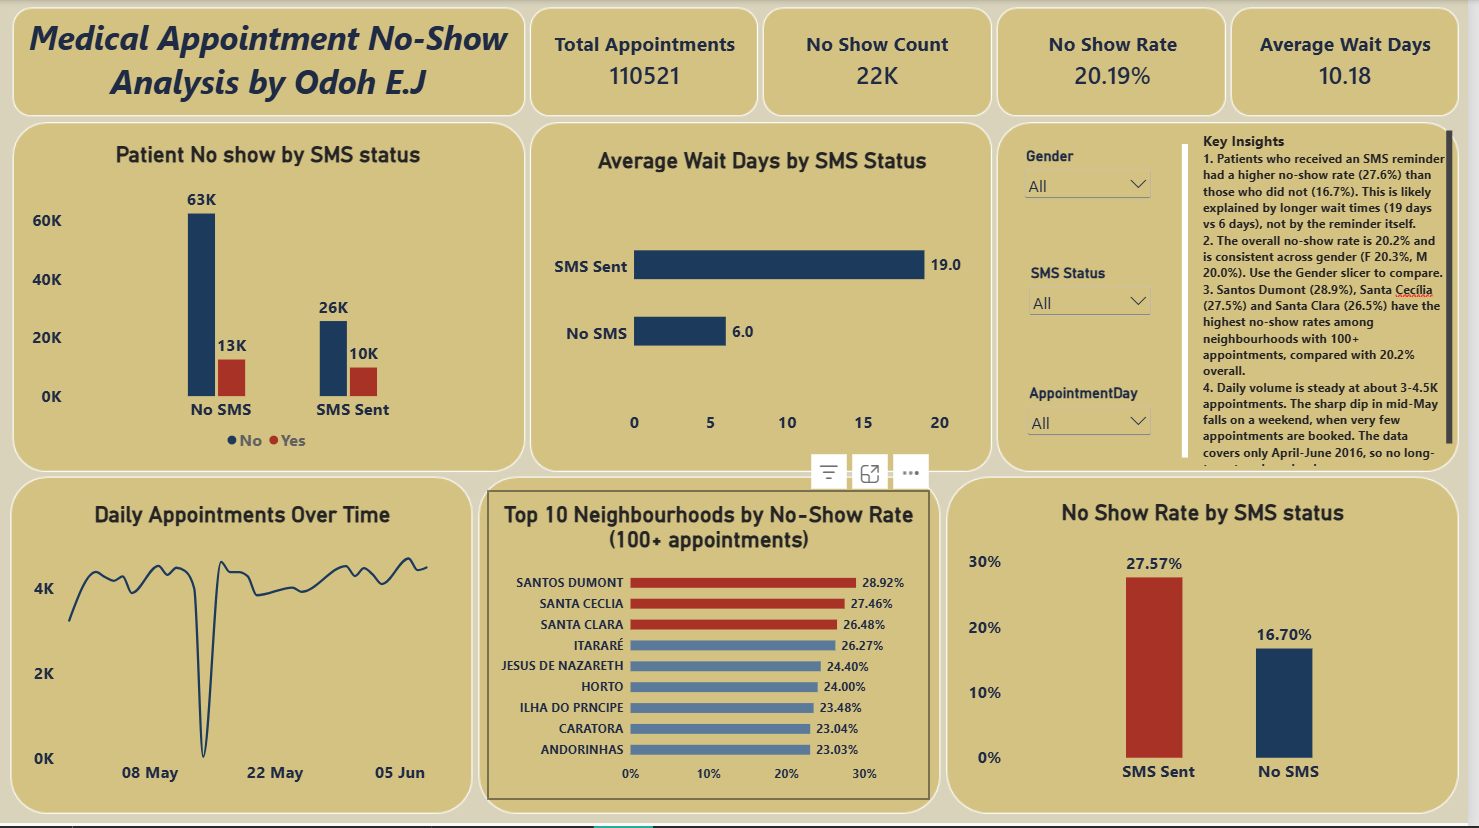

Layout of this report page (visuals, bound fields, positions):
{"tool":"powerbi","page":{"name":"Page 1","canvas":[1920,1080],"ordinal":0},"visuals":[{"type":"cardVisual","fields":{"Data":["appointments.Total Appointments"]},"box":[16,256,230,110],"z":0},{"type":"cardVisual","fields":{"Data":["appointments.No Show Count"]},"box":[592,256,230,110],"z":1000},{"type":"cardVisual","fields":{"Data":["appointments.No Show Rate"]},"box":[1121.7,254.5,230,110],"z":2000},{"type":"cardVisual","fields":{"Data":["appointments.Average Wait Days"]},"box":[1665.3,256.7,230,110],"z":3000},{"type":"textbox","box":[406.2,0,1107.5,95],"z":4000},{"type":"clusteredColumnChart","title":"No-Show Count by SMS Reminder Status","fields":{"Y":["CountNonNull(appointments.PatientId)"],"Series":["appointments.No_show"],"Category":["appointments.SMS_Status"]},"box":[16,384,600,336],"z":5000},{"type":"donutChart","title":"Appointment Status","fields":{"Y":["CountNonNull(appointments.PatientId)"],"Category":["appointments.No_show"]},"box":[656,384,600,336],"z":6000},{"type":"lineChart","title":"Appointments Over Time","fields":{"Y":["CountNonNull(appointments.PatientId)"],"Category":["appointments.AppointmentDay"]},"box":[1296,384,600,336],"z":7000},{"type":"clusteredBarChart","title":"Top 10 Neighbourhoods by No-Show Rate Time","fields":{"Category":["appointments.Neighbourhood"],"Y":["appointments.No Show Rate"]},"box":[16,736,600,336],"z":8000},{"type":"clusteredColumnChart","title":"No-Show Rate by SMS Reminder Status","fields":{"Category":["appointments.SMS_Status"],"Y":["appointments.No Show Rate"]},"box":[656,736,600,336],"z":9000},{"type":"slicer","fields":{"Values":["appointments.Gender"]},"box":[16,138.7,230,80],"z":10000},{"type":"slicer","fields":{"Values":["appointments.SMS_Status"]},"box":[592,138.7,230,80],"z":11000},{"type":"slicer","fields":{"Values":["appointments.AppointmentDay"]},"box":[1168,138.7,230,80],"z":12000},{"type":"textbox","box":[1295.5,736.4,600,336.4],"z":13000}]}

Visuals, with their boxes in screenshot pixels (x1, y1, x2, y2), scaled from the page's 1920x1080 canvas onto the 1479x828 screenshot:
cardVisual - appointments.Total Appointments: (12,196,189,281)
cardVisual - appointments.No Show Count: (456,196,633,281)
cardVisual - appointments.No Show Rate: (864,195,1041,279)
cardVisual - appointments.Average Wait Days: (1283,197,1460,281)
textbox: (313,0,1166,73)
"No-Show Count by SMS Reminder Status" clusteredColumnChart: (12,294,475,552)
"Appointment Status" donutChart: (505,294,968,552)
"Appointments Over Time" lineChart: (998,294,1461,552)
"Top 10 Neighbourhoods by No-Show Rate Time" clusteredBarChart: (12,564,475,822)
"No-Show Rate by SMS Reminder Status" clusteredColumnChart: (505,564,968,822)
slicer - appointments.Gender: (12,106,189,168)
slicer - appointments.SMS_Status: (456,106,633,168)
slicer - appointments.AppointmentDay: (900,106,1077,168)
textbox: (998,565,1460,822)
